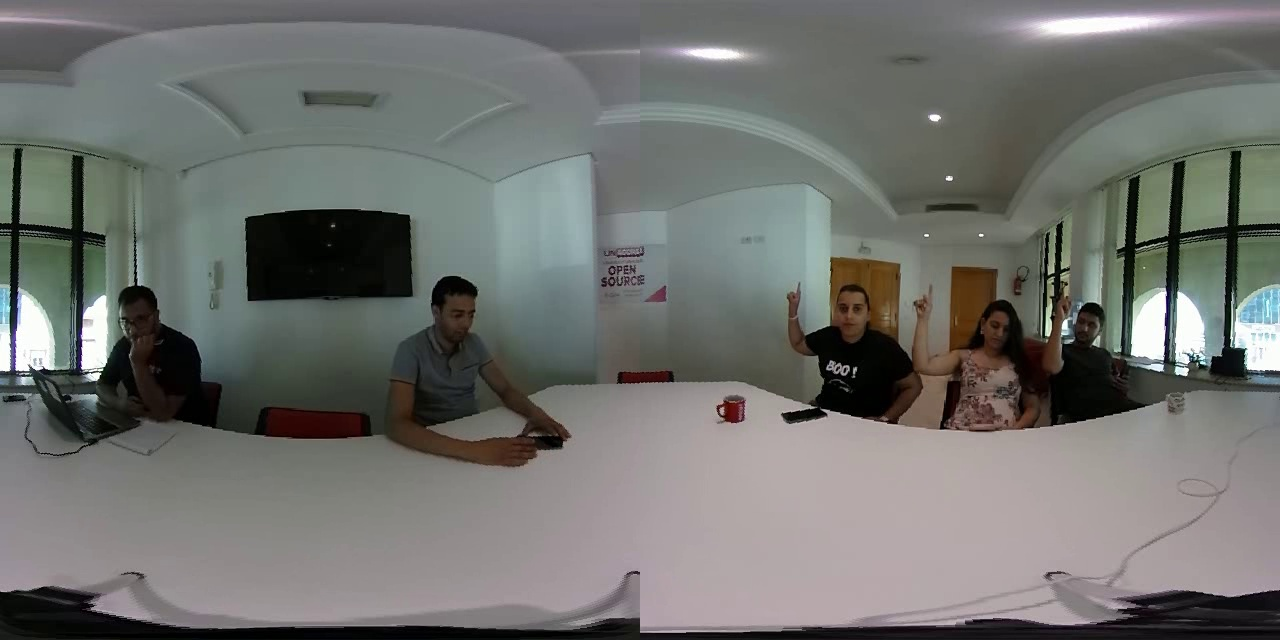hand_up: (905, 264, 955, 390), (774, 259, 825, 369), (1044, 267, 1077, 386)
person: (377, 265, 548, 450), (773, 247, 905, 434), (903, 261, 1035, 432), (88, 278, 220, 426), (1040, 262, 1146, 425), (1041, 262, 1147, 425)
